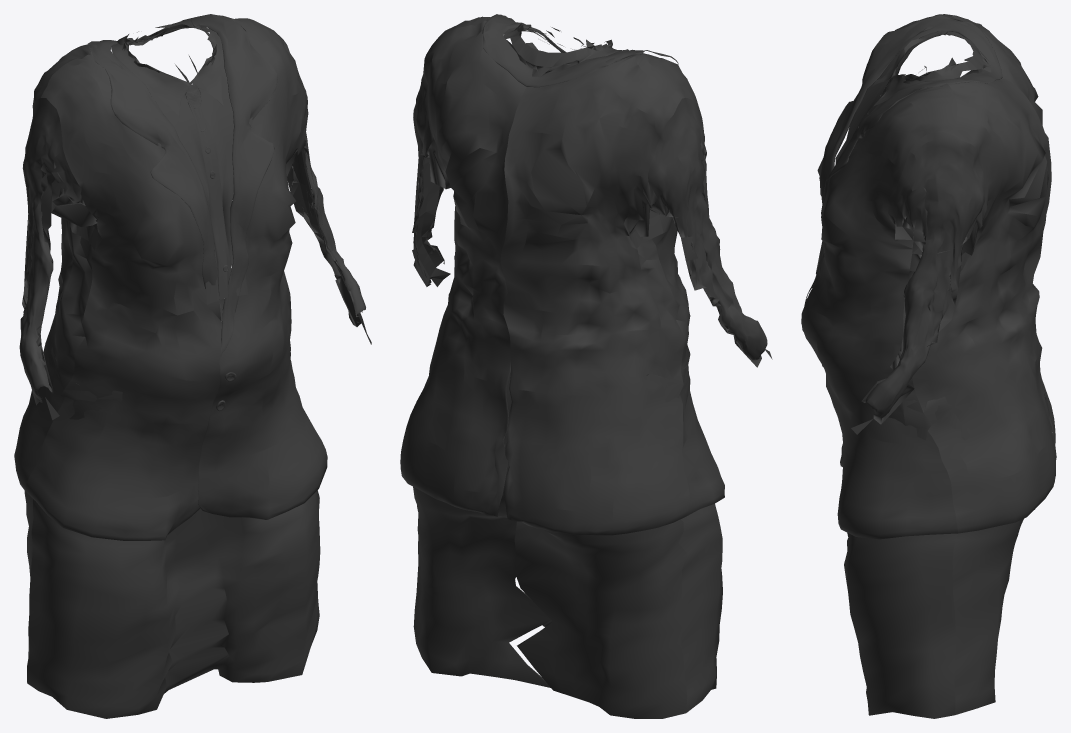
File: cc_suit.glb
3 renders of one model, left to right at view 1: azimuth 30°, elevation 25°; view 2: azimuth 150°, elevation 25°; view 3: azimuth 270°, elevation 25°, orthographic. The views are drawn at different scales.
Visible parts, largest first — view 1: geometry_0; view 2: geometry_0; view 3: geometry_0.
Boxes of the visible parts, box(x1,y1,x2,y2) form: geometry_0: box(14, 14, 371, 718); geometry_0: box(400, 14, 772, 718); geometry_0: box(801, 14, 1056, 718).
Size of the model in its own units: 0.301 by 0.5581 by 0.2054.
Materials: 1 (1 with a texture image).
